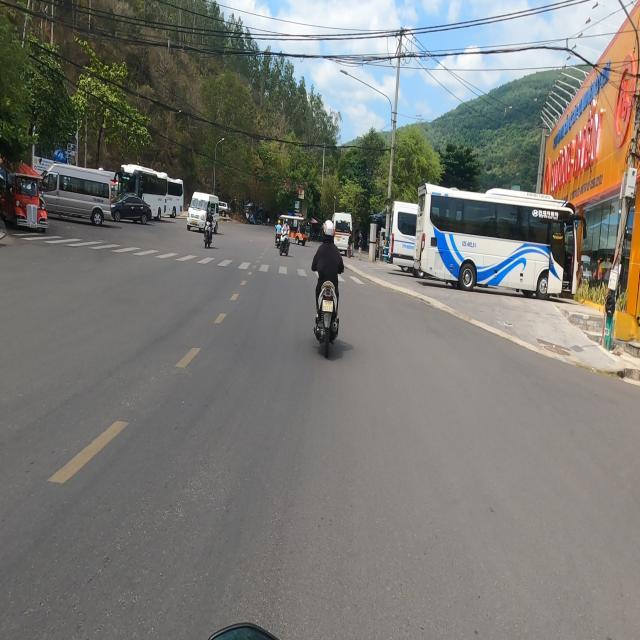walk-crossing: (54, 230, 364, 292)
